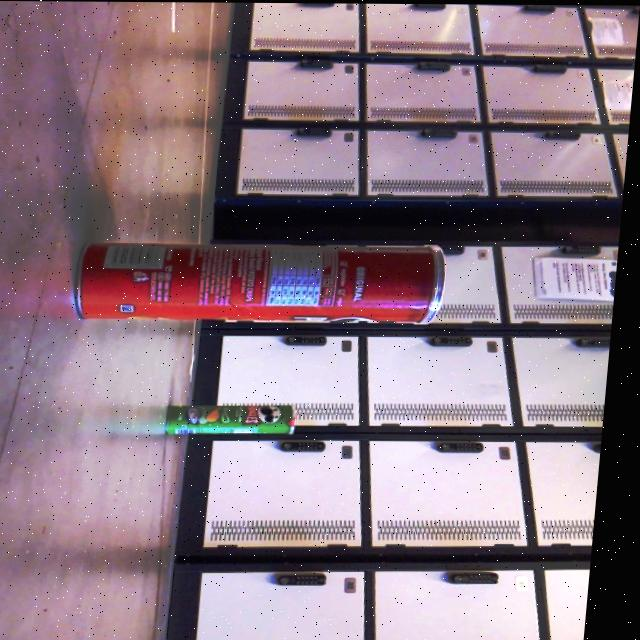greenpringles: (170, 385, 310, 443)
redpringles: (69, 232, 469, 341)
